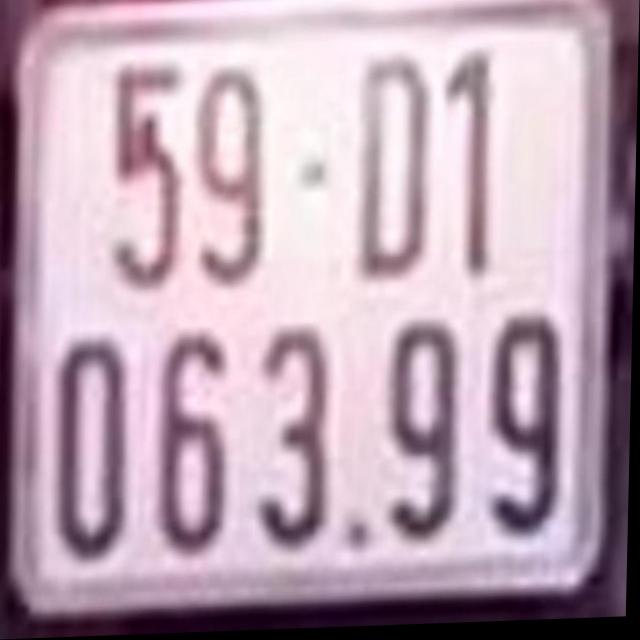0: (55, 340, 137, 556)
1: (443, 43, 498, 276)
3: (254, 329, 334, 547)
5: (108, 55, 182, 282)
6: (155, 330, 233, 549)
9: (390, 319, 462, 542), (497, 317, 562, 535), (201, 66, 268, 275)
D: (360, 57, 435, 275)
